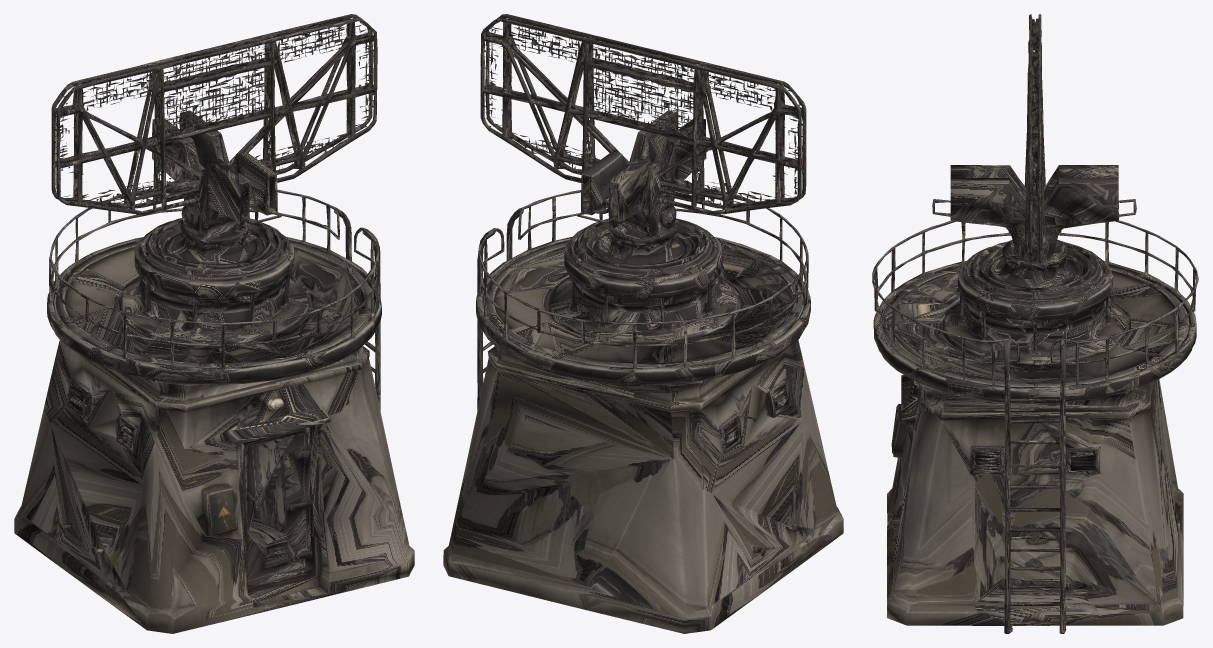
The model's file is base_radar.glb.
The picture shows the model from 3 angles, left to right: view 1: azimuth 30°, elevation 25°; view 2: azimuth 150°, elevation 25°; view 3: azimuth 270°, elevation 25°; orthographic projection. The views are drawn at different scales.
Parts seen in each view (by area): view 1: base_radar; view 2: base_radar; view 3: base_radar.
Part boxes in pixels (bbox=[...]): base_radar: bbox=[14, 14, 414, 633]; base_radar: bbox=[443, 14, 843, 633]; base_radar: bbox=[872, 14, 1198, 633].
Bounding box in the file's own units: 1.27 × 1.9 × 1.16.
1 material, 1 textured.
